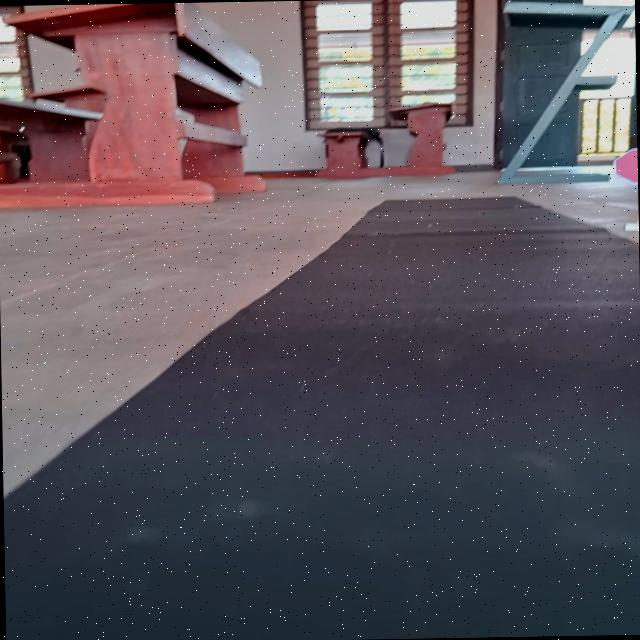Stop: (610, 146, 638, 184)
